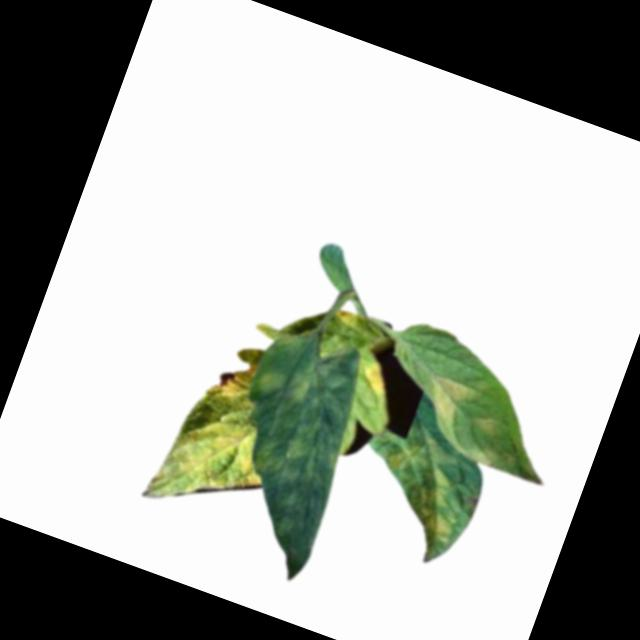Leaf_Mold: (209, 324, 375, 567), (135, 387, 282, 537), (363, 426, 478, 549), (204, 348, 259, 410), (419, 372, 474, 428), (353, 357, 396, 402), (465, 410, 503, 441), (329, 306, 360, 334)
